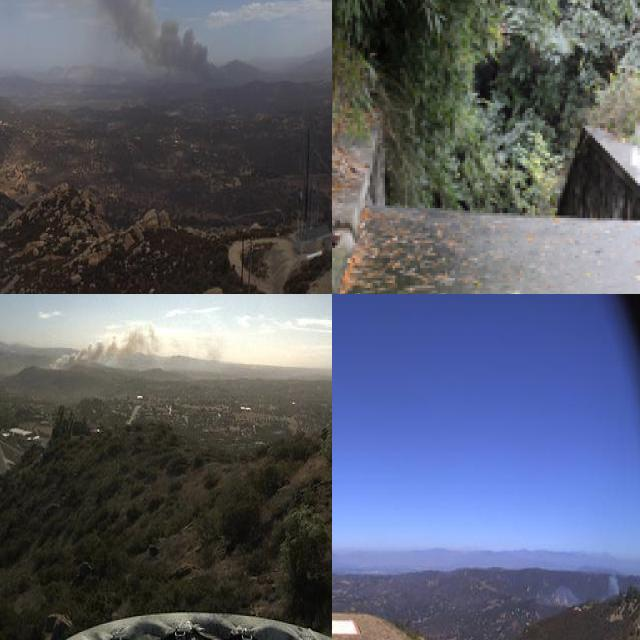smoke: (0, 0, 240, 99), (45, 314, 219, 374), (547, 564, 624, 611)
